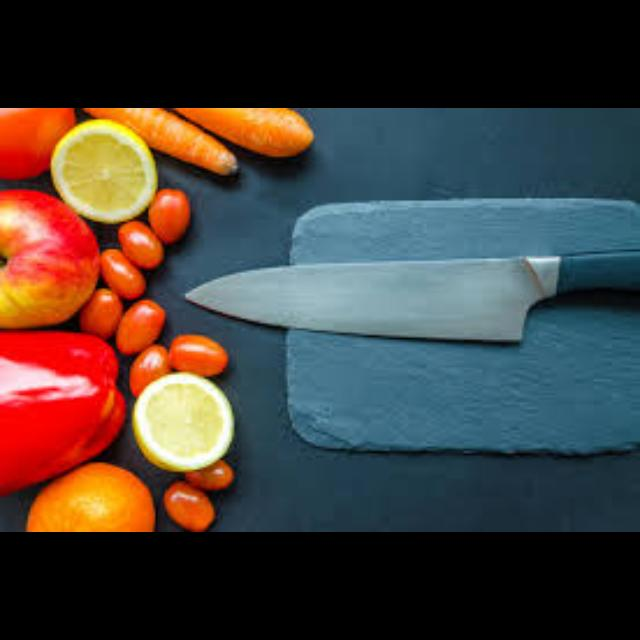Knife: (183, 245, 637, 342)
